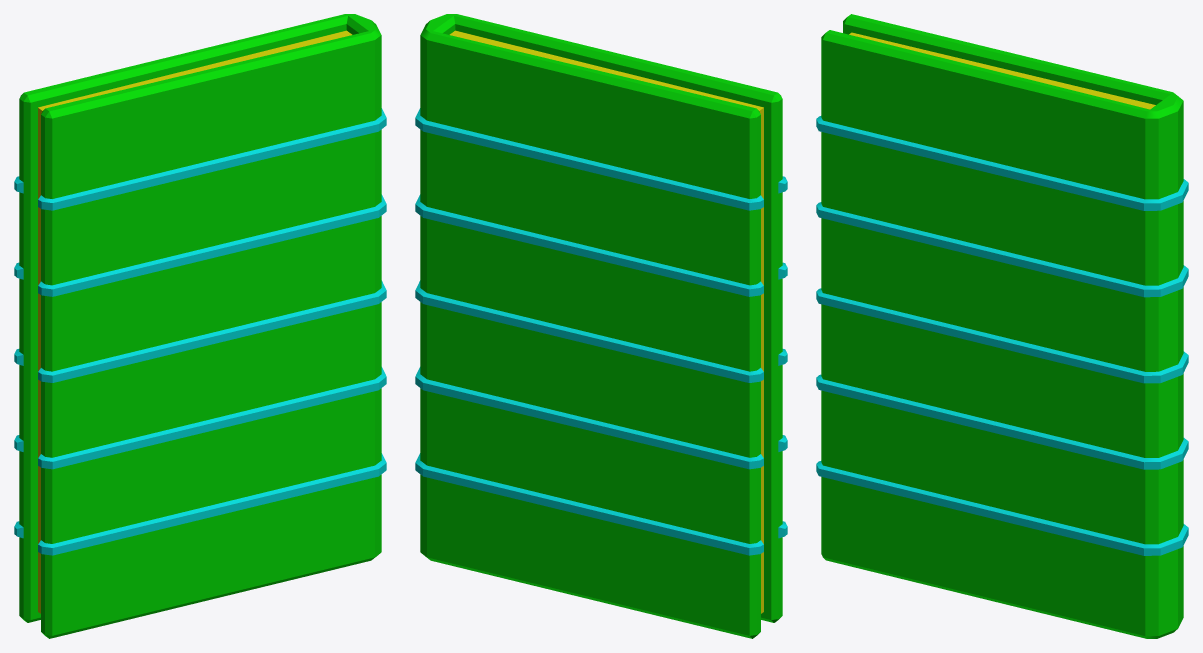
The model's file is fancy_book.fbx.
3 renders of one model, left to right at view 1: azimuth 30°, elevation 25°; view 2: azimuth 150°, elevation 25°; view 3: azimuth 330°, elevation 25°, orthographic.
Visible parts, largest first — view 1: book_fancey; view 2: book_fancey; view 3: book_fancey.
Boxes of the visible parts, x1,y1,x2,y2 form: book_fancey: (14,14,386,638); book_fancey: (415,14,787,638); book_fancey: (816,14,1188,638).
Bounding box in the file's own units: 2.87 × 4.1 × 0.5203.
